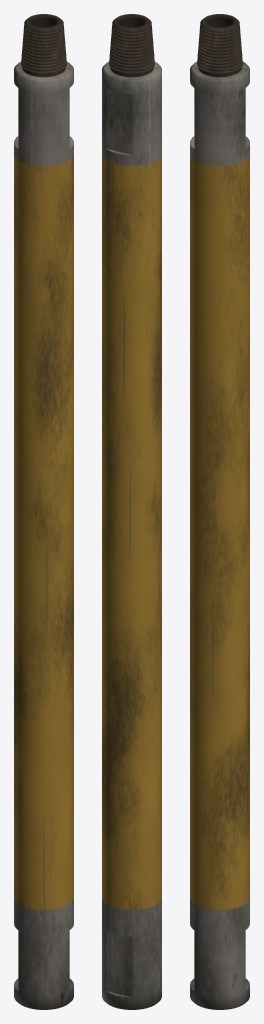
File: SM_Tige_5pi_Jaune.glb
The picture shows the model from 3 angles, left to right: view 1: azimuth 90°, elevation 25°; view 2: azimuth 150°, elevation 25°; view 3: azimuth 270°, elevation 25°; orthographic projection.
Visible parts, largest first — view 1: Tige_5pi_Jaune; view 2: Tige_5pi_Jaune; view 3: Tige_5pi_Jaune.
Part boxes in pixels (x1,y1,x2,y2): Tige_5pi_Jaune: (14,14,73,1009); Tige_5pi_Jaune: (102,14,161,1009); Tige_5pi_Jaune: (190,14,249,1009).
Size of the model in its own units: 0.0889 by 1.6 by 0.0889.
1 material, 1 textured.
